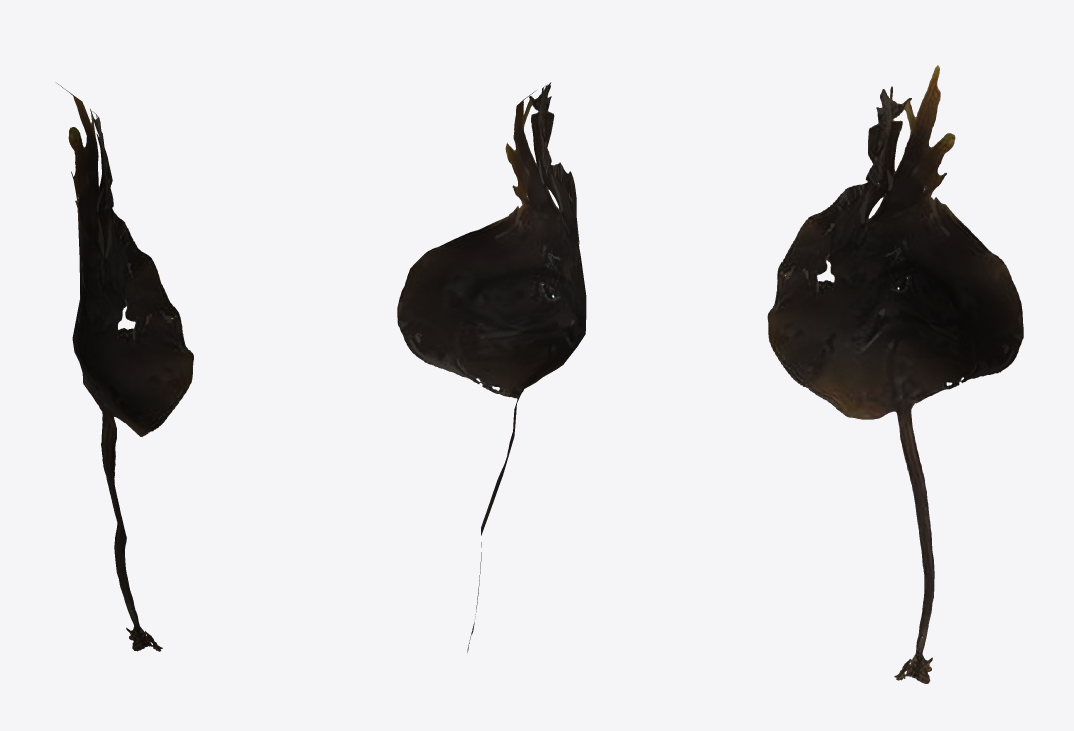
Rendered from algue_04.fbx.
The picture shows the model from 3 angles, left to right: view 1: azimuth 30°, elevation 25°; view 2: azimuth 150°, elevation 25°; view 3: azimuth 270°, elevation 25°; orthographic projection.
Visible parts, largest first — view 1: Gross-morphology-of-Laminaria-digitata-A-and-B-and-Hedophyl.; view 2: Gross-morphology-of-Laminaria-digitata-A-and-B-and-Hedophyl.; view 3: Gross-morphology-of-Laminaria-digitata-A-and-B-and-Hedophyl..
Part boxes in pixels (<box>): Gross-morphology-of-Laminaria-digitata-A-and-B-and-Hedophyl.: <box>55,82,193,651</box>; Gross-morphology-of-Laminaria-digitata-A-and-B-and-Hedophyl.: <box>397,82,586,652</box>; Gross-morphology-of-Laminaria-digitata-A-and-B-and-Hedophyl.: <box>767,65,1023,683</box>.
Size of the model in its own units: 41.37 by 100 by 48.11.
